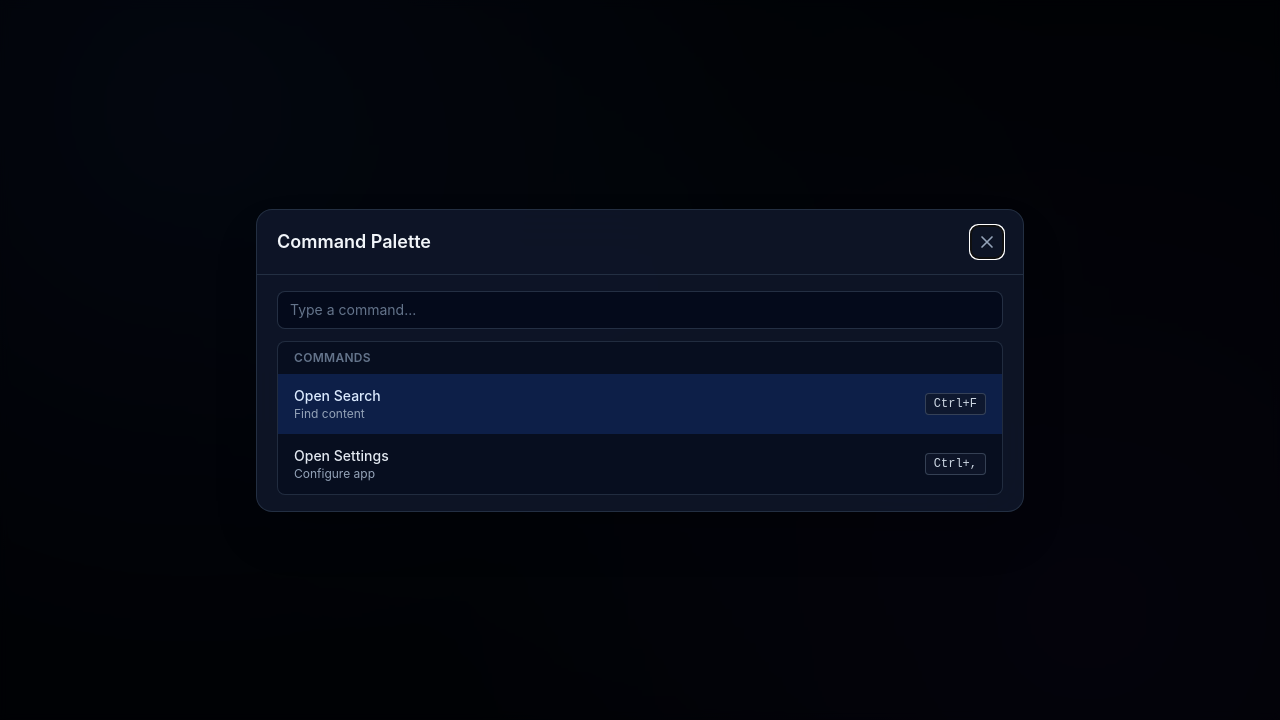
Scenario: CommandPalette › shows empty message when no command matches
Type "no-match" into the field labelled "Type a command..." at (640, 310), box [277, 290, 1003, 328]
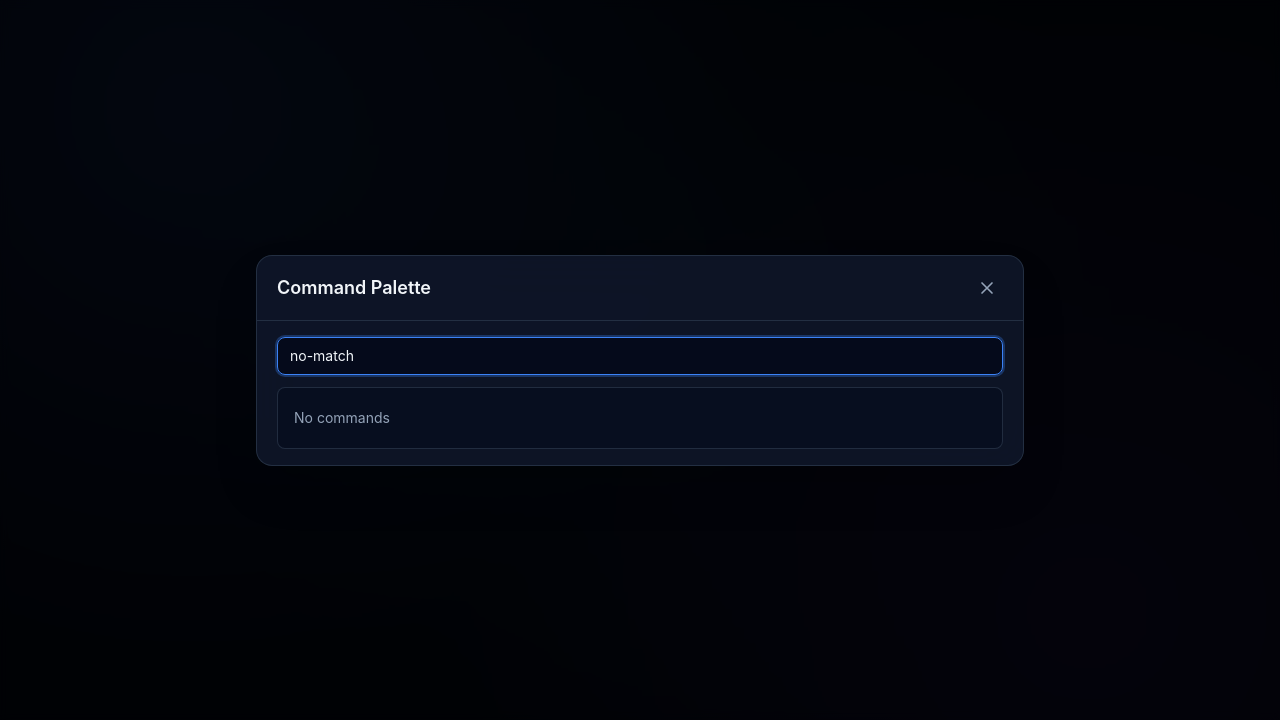
Now the text "No commands" is shown, box [294, 408, 390, 426]
